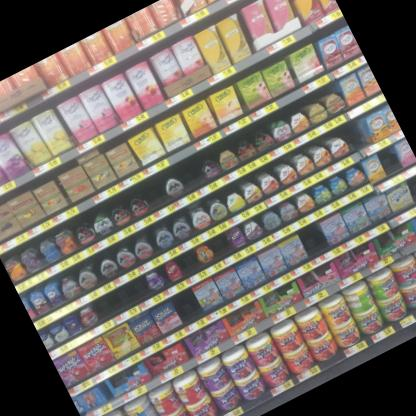empty_space: (90, 271, 154, 320), (171, 151, 209, 193), (170, 282, 207, 323), (335, 113, 373, 152), (135, 173, 171, 213), (296, 219, 332, 258), (374, 141, 408, 178), (402, 168, 416, 205)
